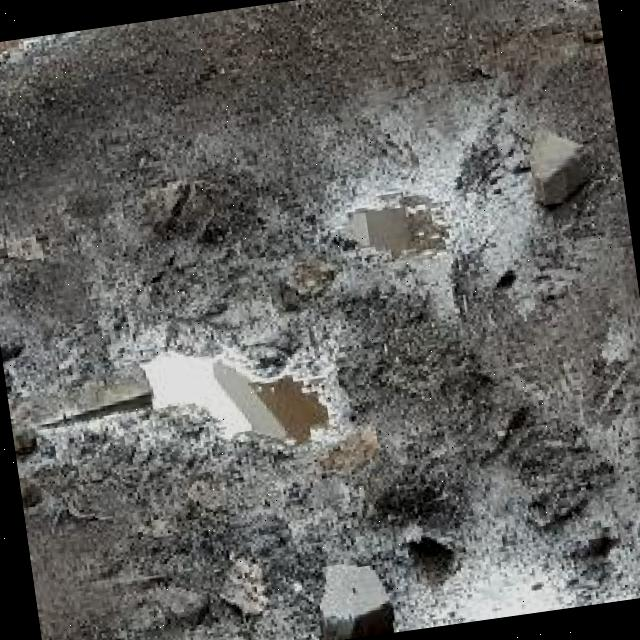stagnation: (138, 353, 331, 463)
